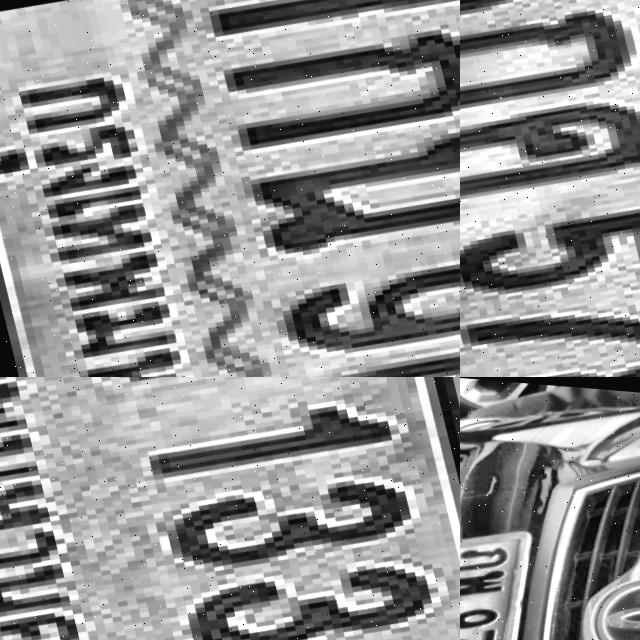license-plate: (0, 0, 460, 377), (0, 377, 460, 640), (460, 0, 640, 377), (460, 506, 575, 640)
